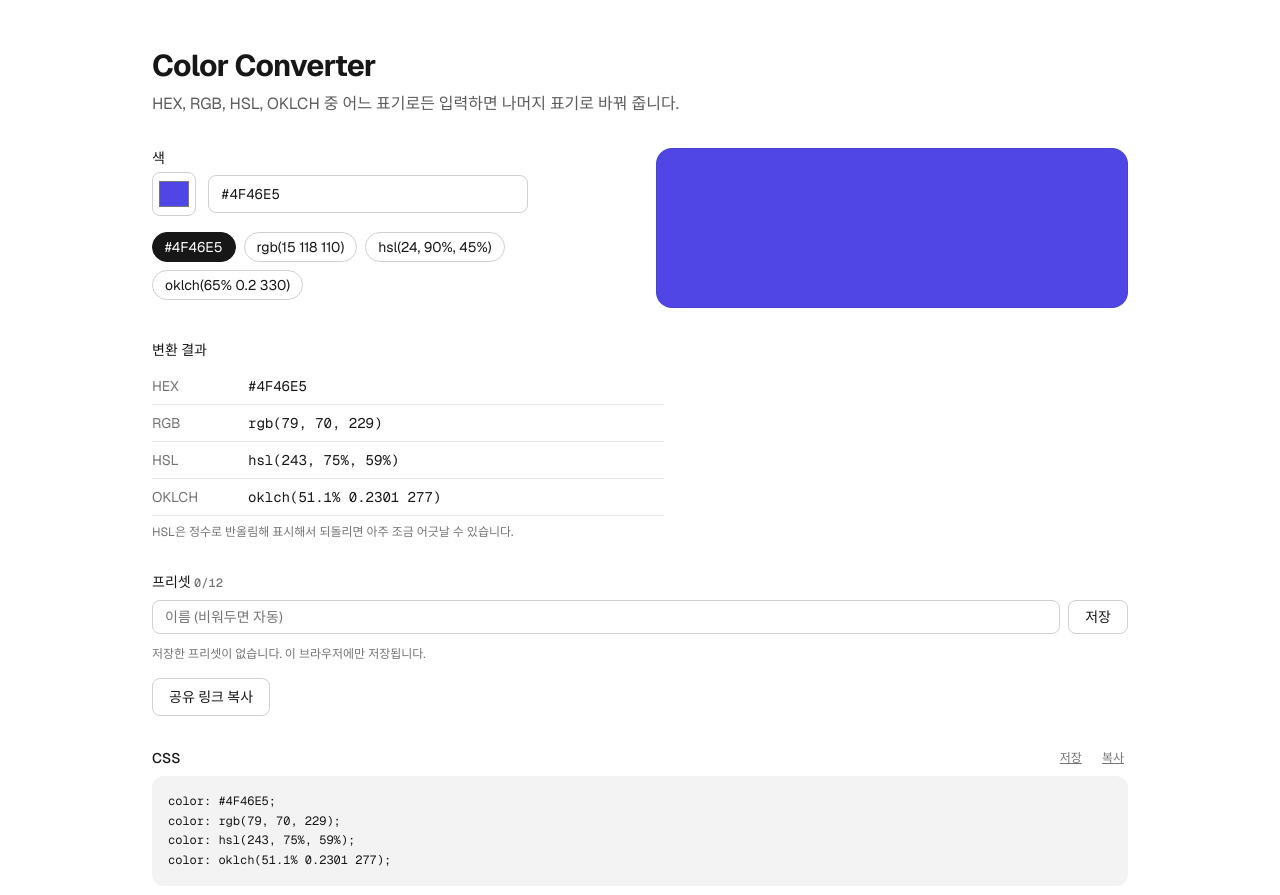
Test: ColorConverter › 읽을 수 없는 입력은 오류를 알리고 이전 결과를 유지한다
Replace the text in the field labelled "색" with "red": (368, 194) [208,175,528,213]
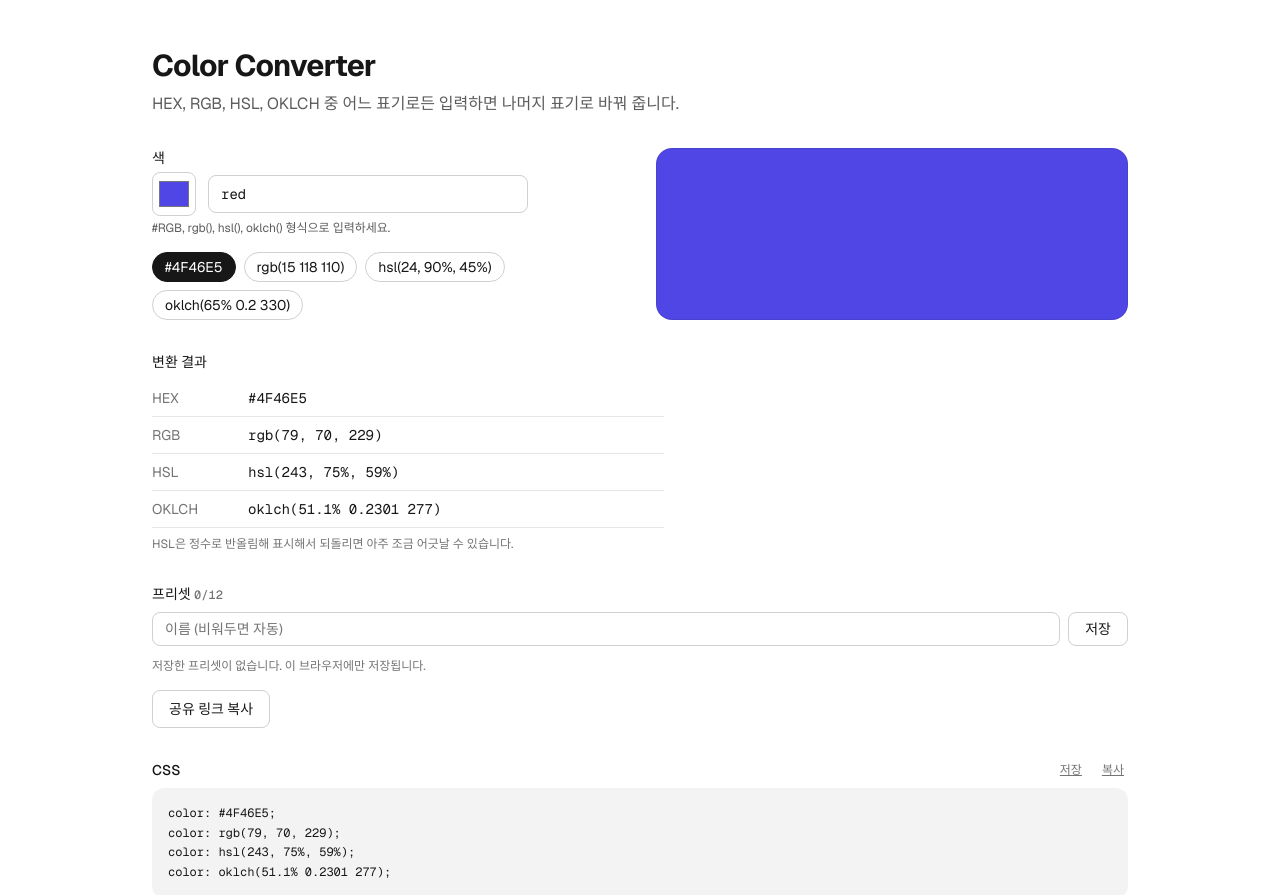
Check: the text named "CSS 코드" shows "#4F46E5", box [168,805,391,880]
Check: the text "#RGB, rgb(), hsl(), oklch() 형식으로 입력하세요." is shown, box [152,220,390,236]
